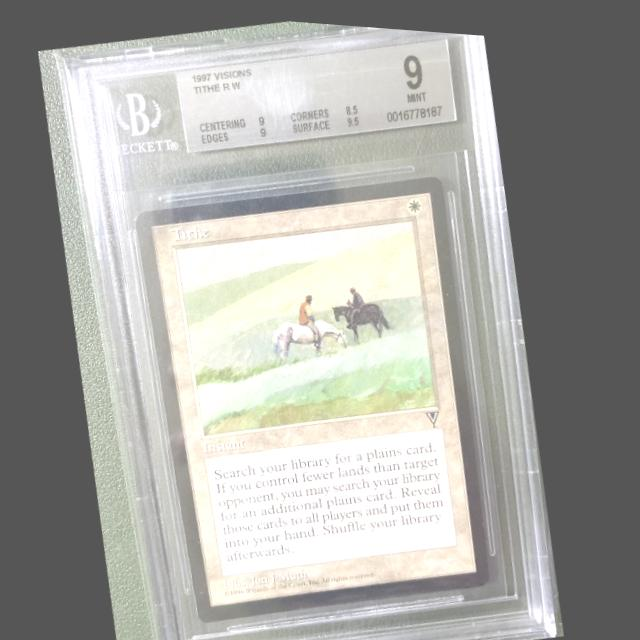bgs_label: (176, 31, 458, 150)
bgs_slab: (63, 19, 566, 640)
card: (136, 167, 499, 621)
